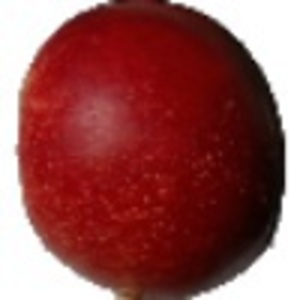nectarina: (13, 1, 287, 300)
